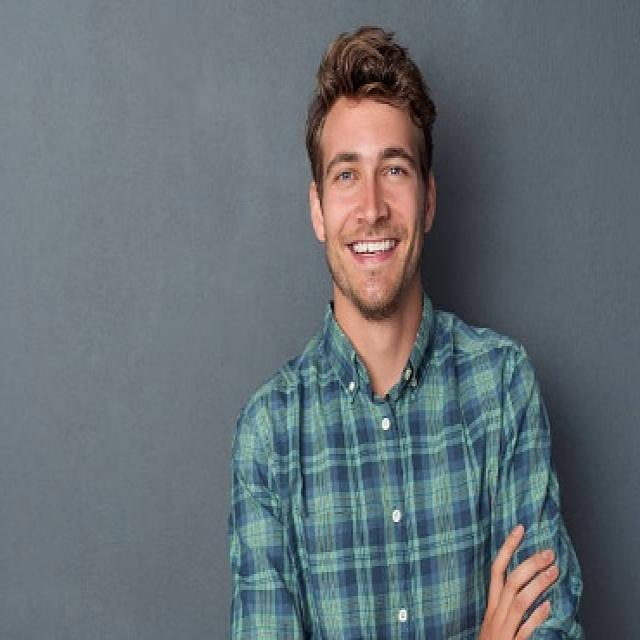adult: (208, 26, 574, 640)
